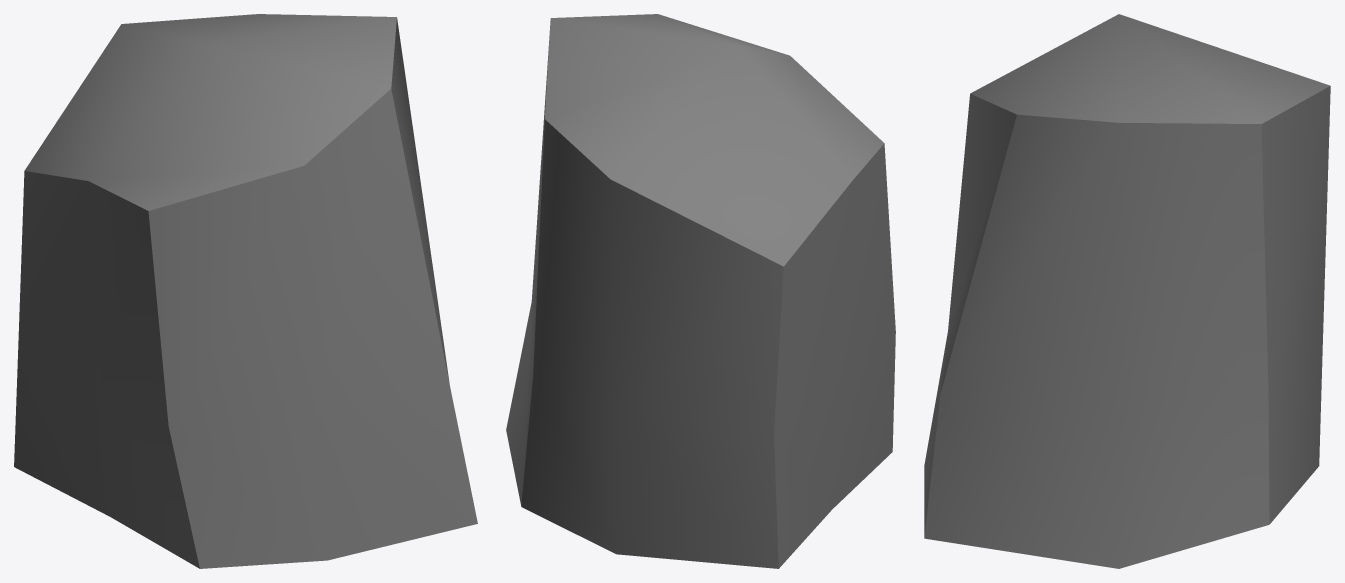
Rendered from JaggedRock2.FBX.
3 views of the same model, side by side, from view 1: azimuth 30°, elevation 25°; view 2: azimuth 150°, elevation 25°; view 3: azimuth 270°, elevation 25° (orthographic).
Parts seen in each view (by area): view 1: Box001; view 2: Box001; view 3: Box001.
Part boxes in pixels (<box>): Box001: <box>14,14,477,568</box>; Box001: <box>506,14,895,568</box>; Box001: <box>924,14,1330,568</box>.
Size of the model in its own units: 0.8655 by 1.05 by 0.8738.
1 material, 1 textured.
